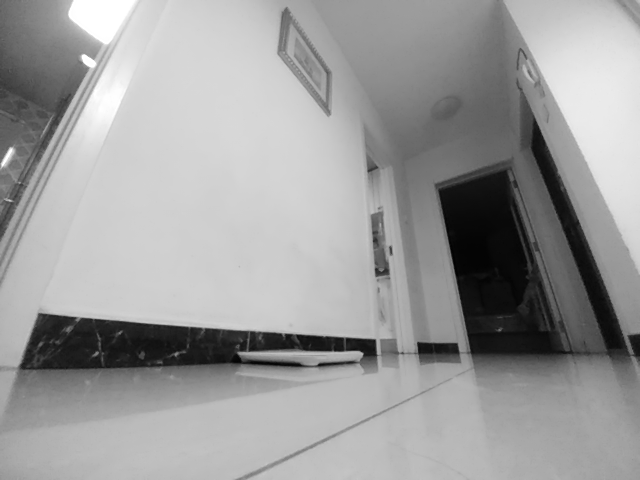scale: (235, 350, 360, 369)
